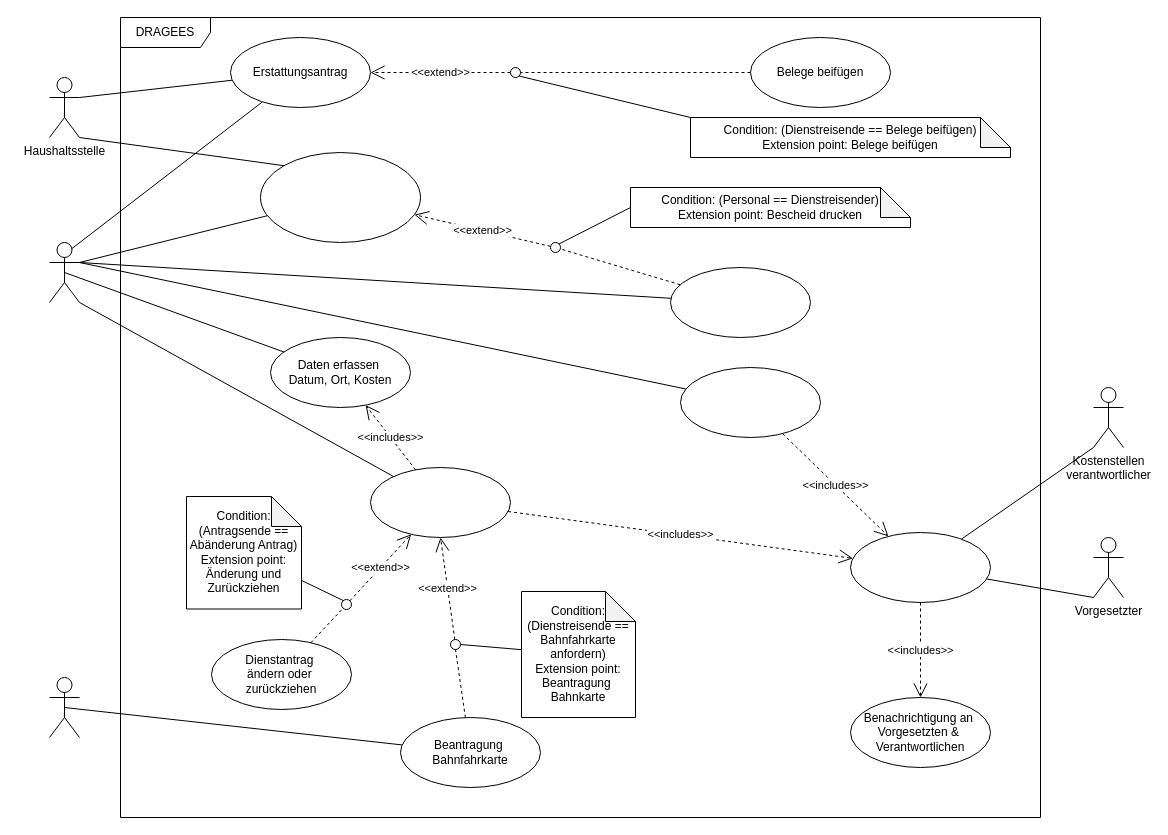
Image size: 1168x835. Some labels were removed from this diagram. Each missing label, with the centre of its shape:
Abrechnungsbescheid drucken: (x=740, y=302)
Abrechnungsbescheid einsehbar Extension point: Bescheid drucken: (x=340, y=197)
Antragsteller: (x=64, y=272)
Genehmigung einholen: (x=920, y=567)
Reiseantrag erstellen Extension point: Änderung & Fahrkarte: (x=440, y=502)
Reisebüro (Hochschulintern): (x=64, y=707)
Über das Ergebnis informieren: (x=750, y=402)
